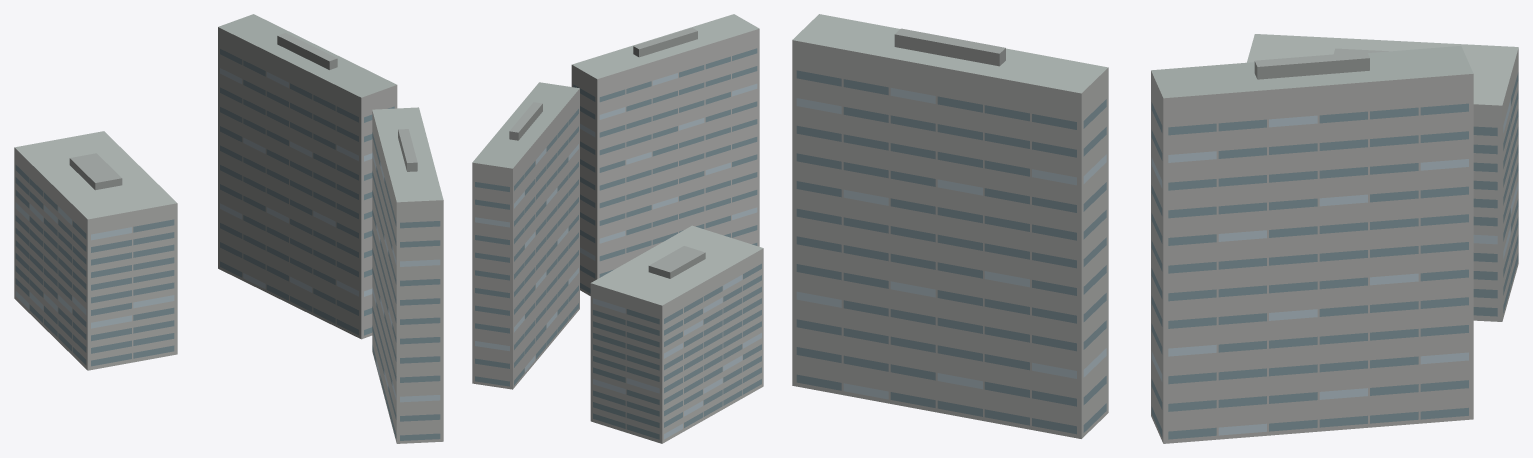
Rendered from apt-a13307001.glb.
3 views of the same model, side by side, from view 1: azimuth 30°, elevation 25°; view 2: azimuth 150°, elevation 25°; view 3: azimuth 270°, elevation 25° (orthographic). The views are drawn at different scales.
Visible parts, largest first — view 1: apt-a13307001; view 2: apt-a13307001; view 3: apt-a13307001.
Boxes of the visible parts, left/top/right/bottom form: apt-a13307001: left=14, top=14, right=443, bottom=443; apt-a13307001: left=472, top=14, right=763, bottom=443; apt-a13307001: left=792, top=14, right=1518, bottom=443.
Bounding box in the file's own units: 78.84 × 68 × 125.
